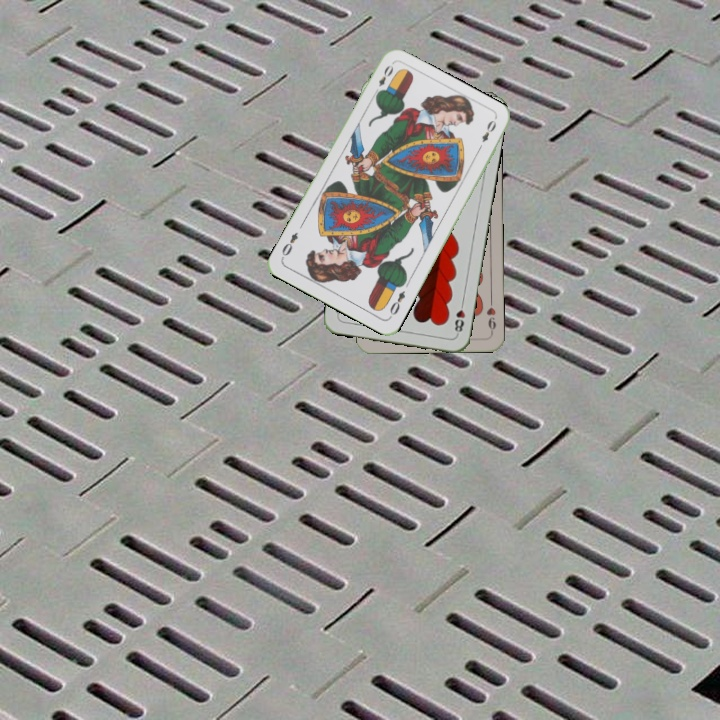EO: (371, 61, 396, 98), (386, 287, 408, 321)
H8: (450, 297, 468, 337)
H9: (482, 295, 498, 336)
